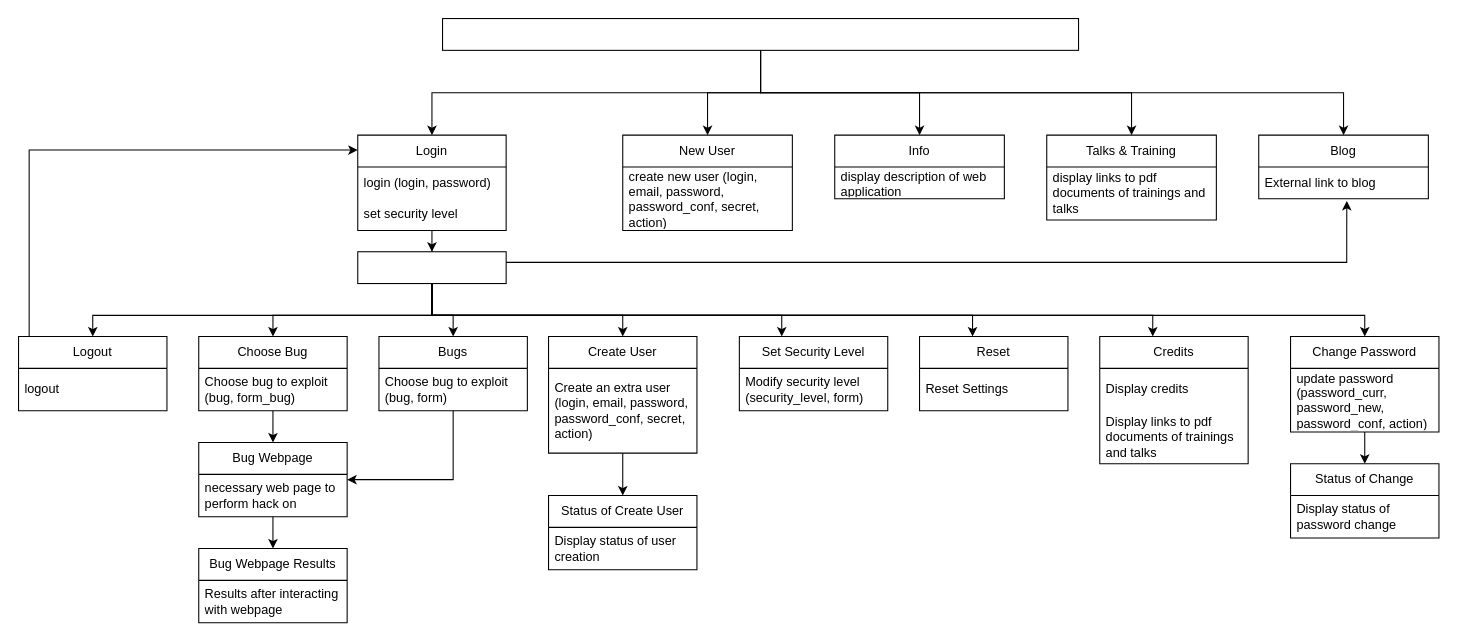
Some shapes in this 1457 by 641 pixel diagram are drawn without their labels. Each missing label, with the centre of its shape:
Index / Landing Page: [431,267]
Load URL: [760,33]
